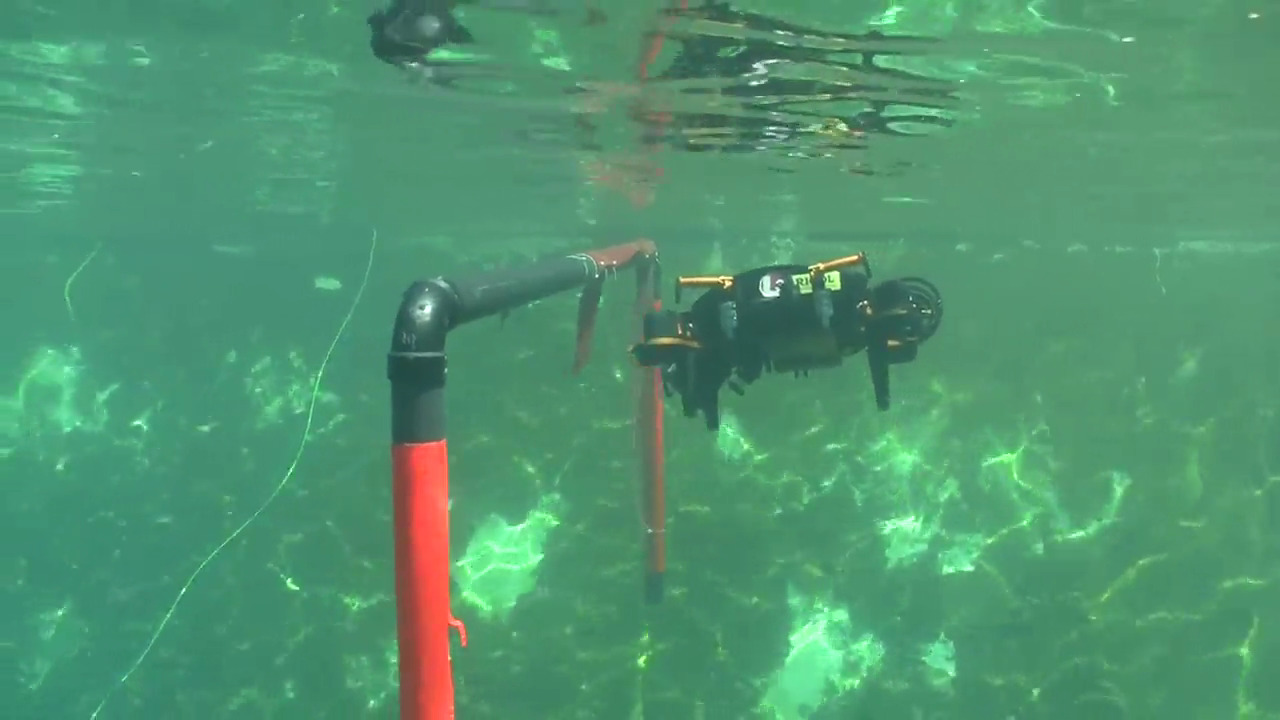gate: (384, 232, 673, 720)
